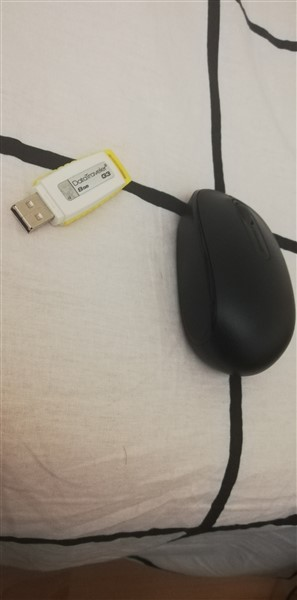flash disk: (10, 141, 134, 240)
mouse: (170, 177, 295, 390)
